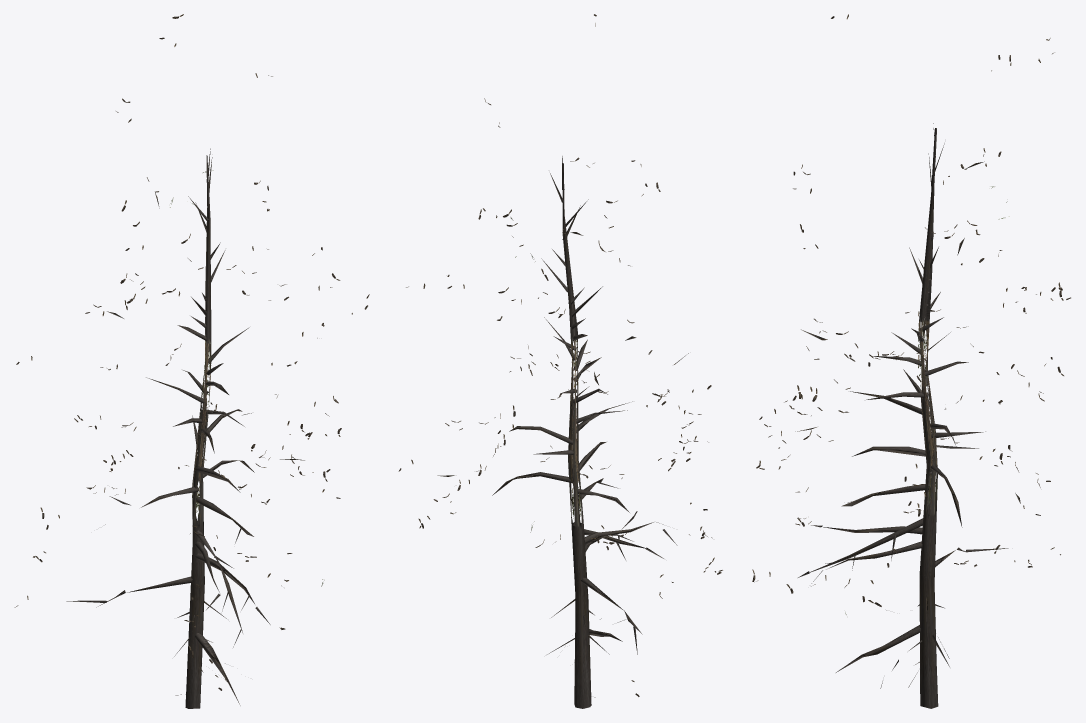
The model's file is pine-sapling-medium.glb.
The picture shows the model from 3 angles, left to right: view 1: azimuth 30°, elevation 25°; view 2: azimuth 150°, elevation 25°; view 3: azimuth 270°, elevation 25°; orthographic projection. The views are drawn at different scales.
Parts seen in each view (by area): view 1: pine_sapling_medium_c_LOD0; view 2: pine_sapling_medium_c_LOD0; view 3: pine_sapling_medium_c_LOD0.
Part boxes in pixels (x1=…): pine_sapling_medium_c_LOD0: x1=14, y1=14, x2=369, y2=708; pine_sapling_medium_c_LOD0: x1=398, y1=14, x2=722, y2=708; pine_sapling_medium_c_LOD0: x1=752, y1=14, x2=1070, y2=708.
Size of the model in its own units: 3.22 by 6.6 by 2.71.
1 material, 1 textured.
